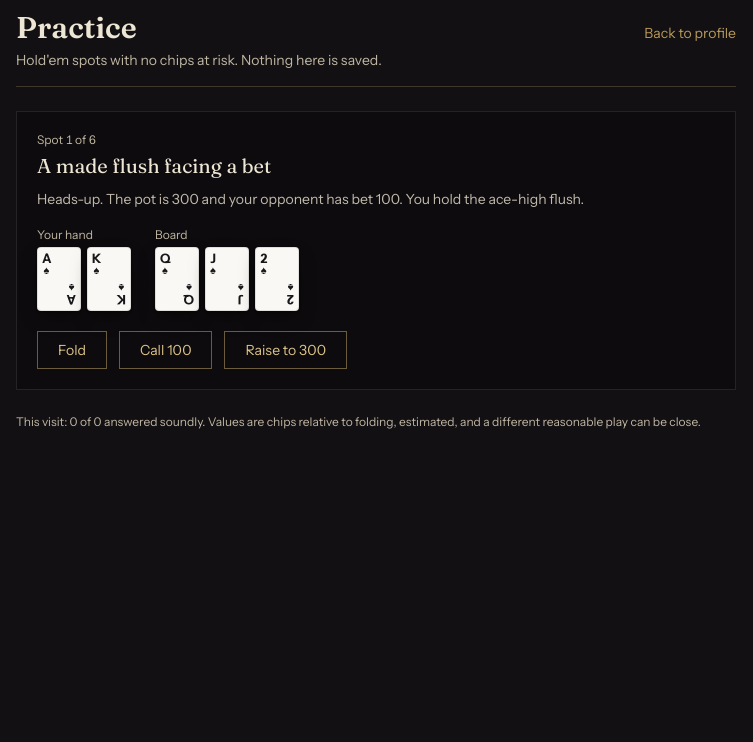
Test: the profile and practice screens › practice grades an answer, shows estimates with uncertainty, and tallies only this visit
Click the button "Call 100" at [166, 350], box x1=119 y1=331 x2=212 y2=369
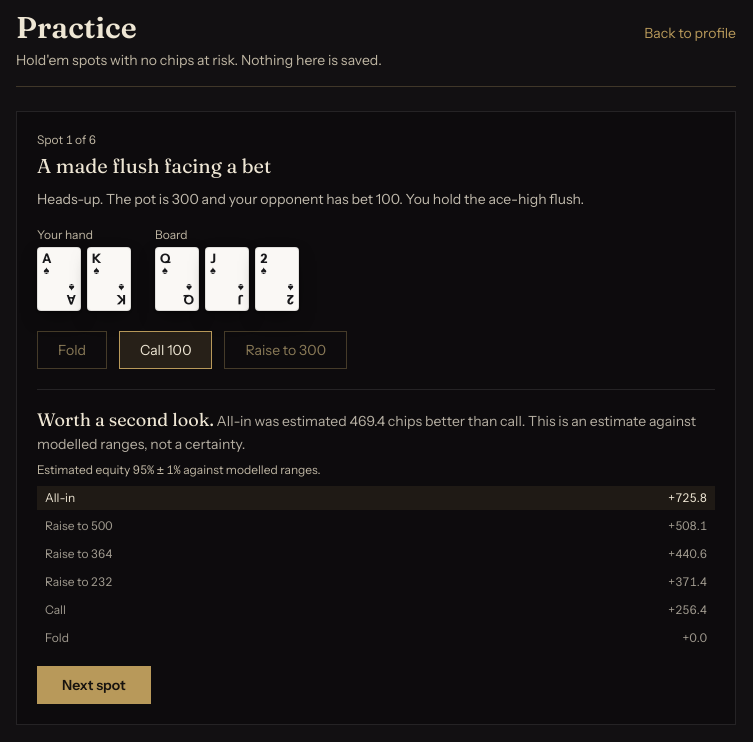
Now the element named "Result" is shown, box x1=37 y1=389 x2=715 y2=704
Now the text "modelled ranges" is shown, box x1=37 y1=412 x2=696 y2=453
Click the button "Next spot" at [94, 685], box x1=37 y1=666 x2=151 y2=704
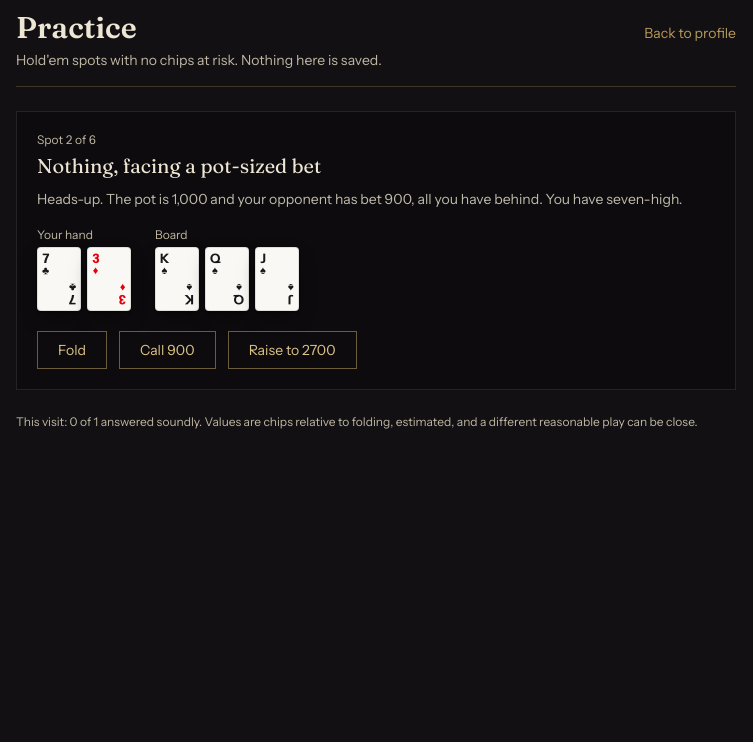
Now the text "Spot 2 of 6" is shown, box x1=37 y1=132 x2=96 y2=147
